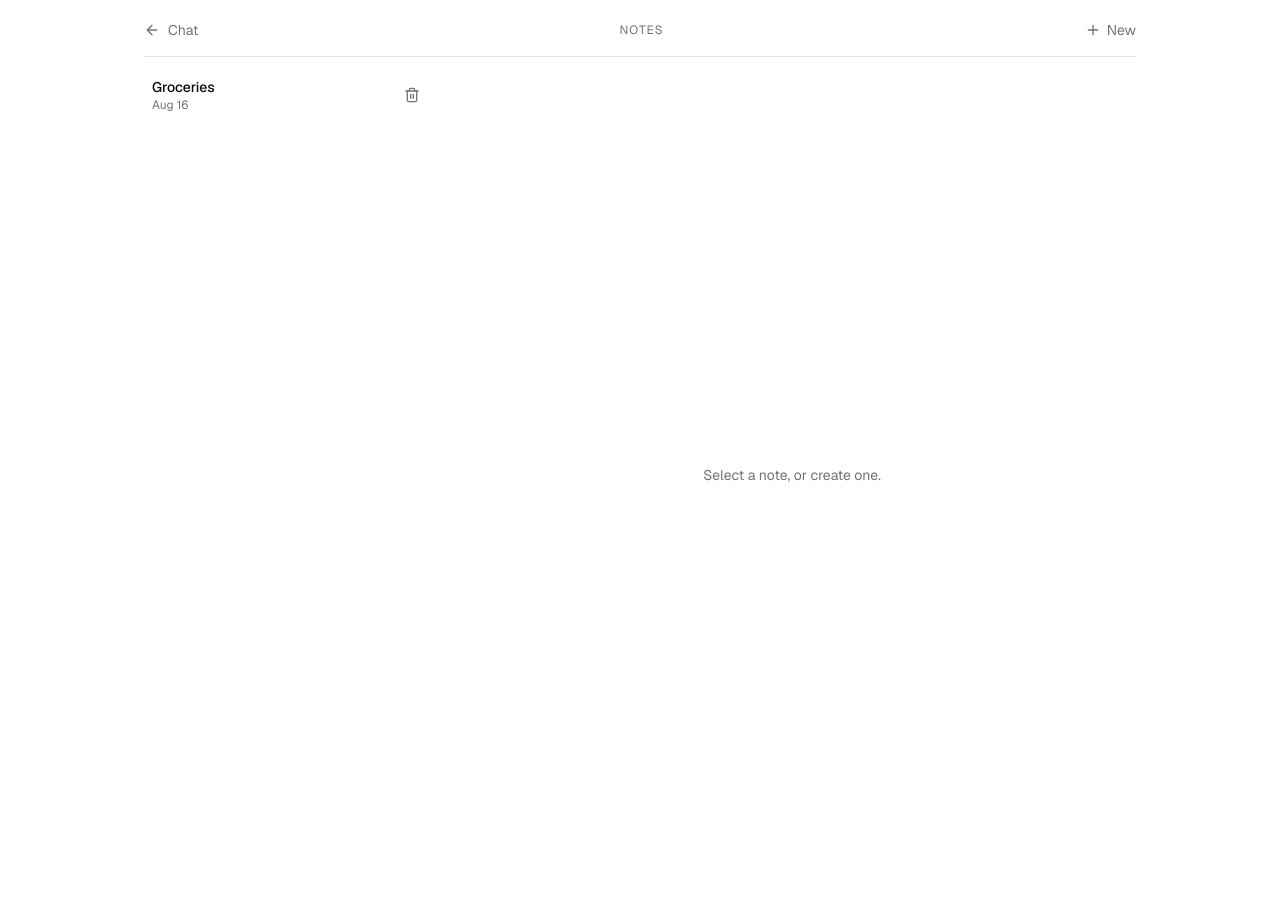
Notes page › shows the API's message when a save fails
Click the button "Groceries Aug 16" at (266, 95), box [144,69,388,121]
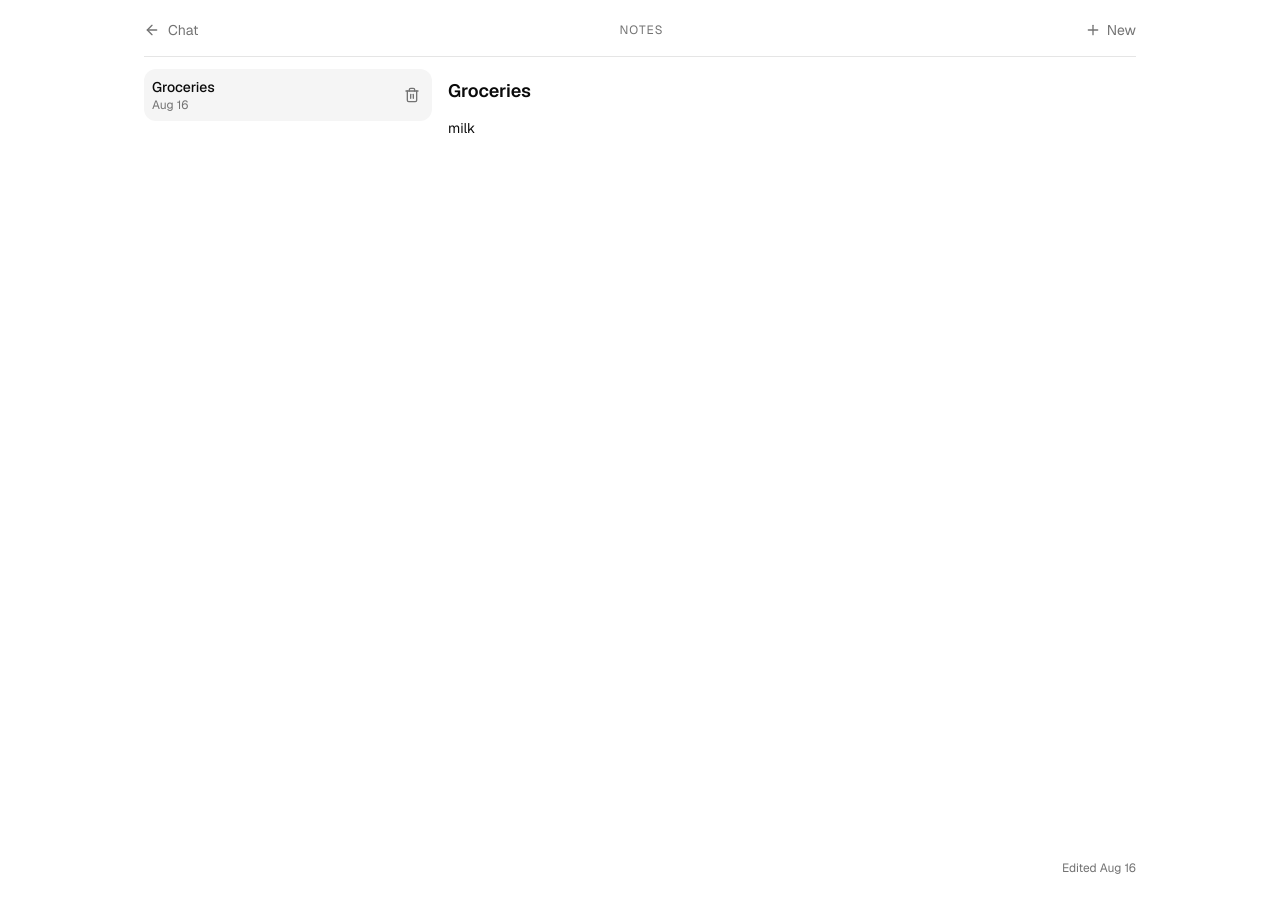
Replace the text in the text box named "Note body" with "x" at (792, 484), box [448,113,1136,856]
Wait 900 ms
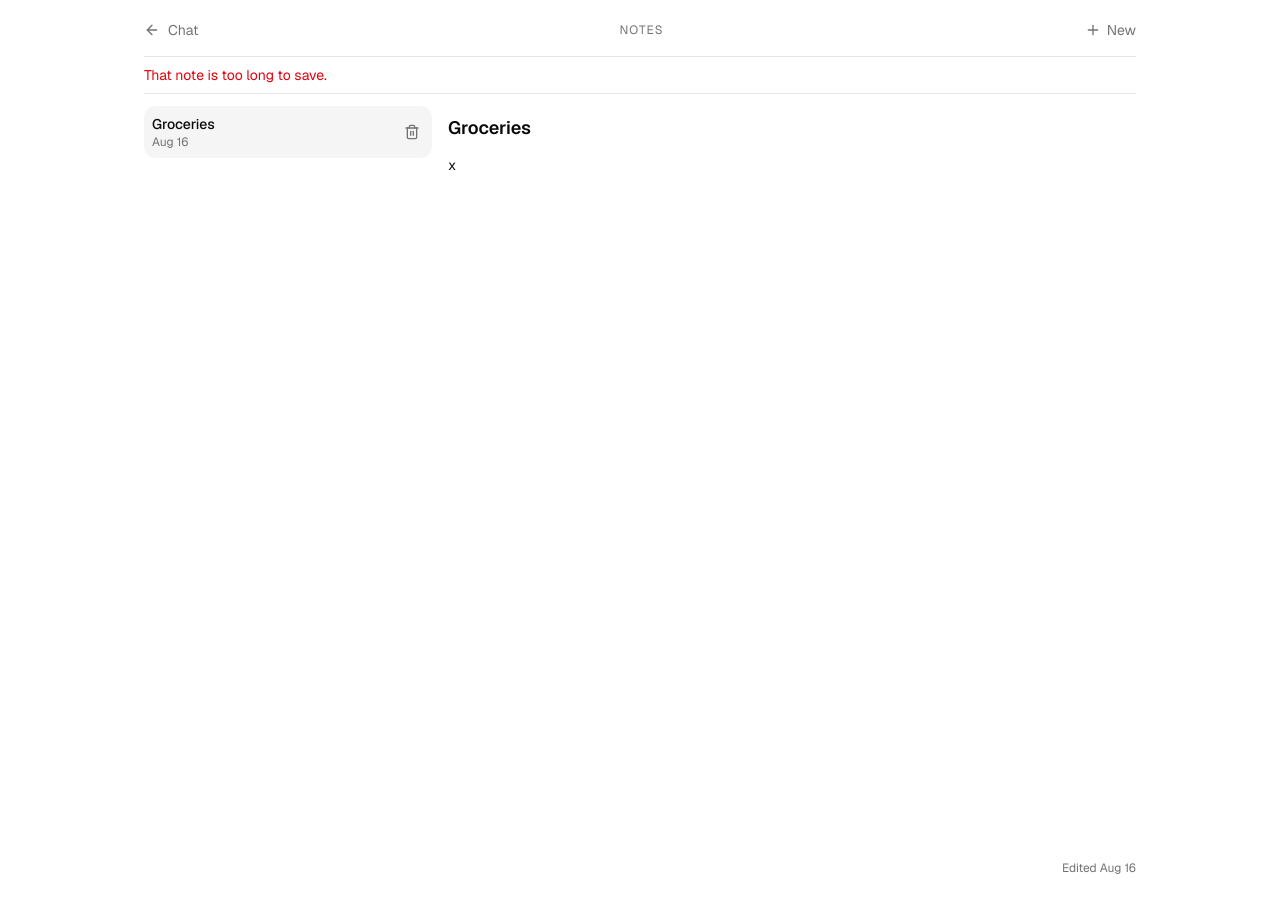
Expected: the message reads "That note is too long to save.", [144,66,327,84]
